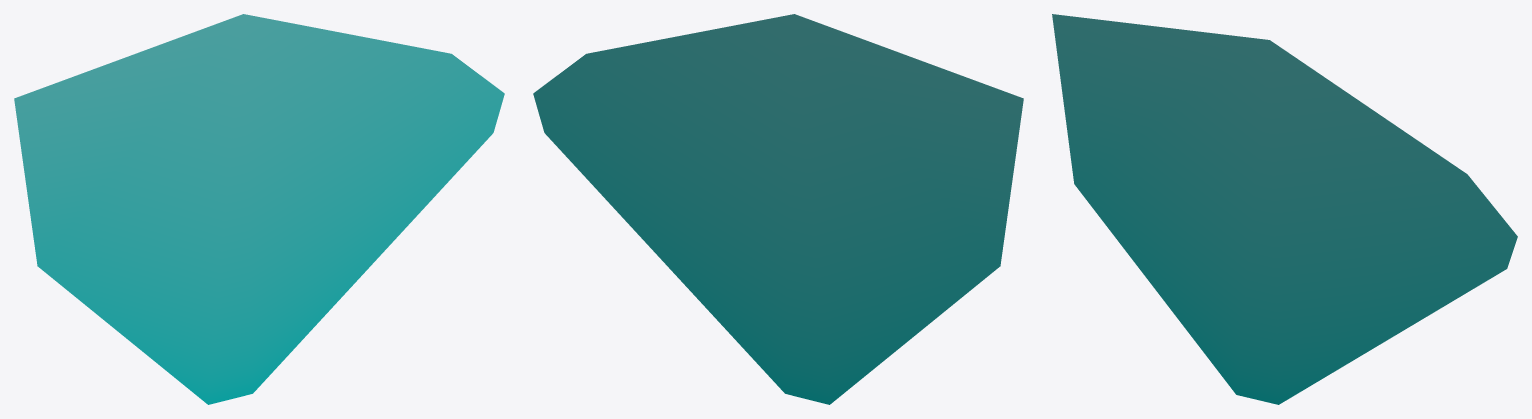
File: Zamia_Palm_ulrtcjsia_Mid_ulrtcjsia_VarD_LOD3.fbx
3 renders of one model, left to right at view 1: azimuth 30°, elevation 25°; view 2: azimuth 150°, elevation 25°; view 3: azimuth 330°, elevation 25°, orthographic. The views are drawn at different scales.
Visible parts, largest first — view 1: _hgyy_VarD_LOD5; view 2: _hgyy_VarD_LOD5; view 3: _hgyy_VarD_LOD5.
Boxes of the visible parts, x1,y1,x2,y2 form: _hgyy_VarD_LOD5: [14, 14, 504, 404]; _hgyy_VarD_LOD5: [533, 14, 1023, 404]; _hgyy_VarD_LOD5: [1052, 14, 1517, 404].
Size of the model in its own units: 82.33 by 61.3 by 0.
